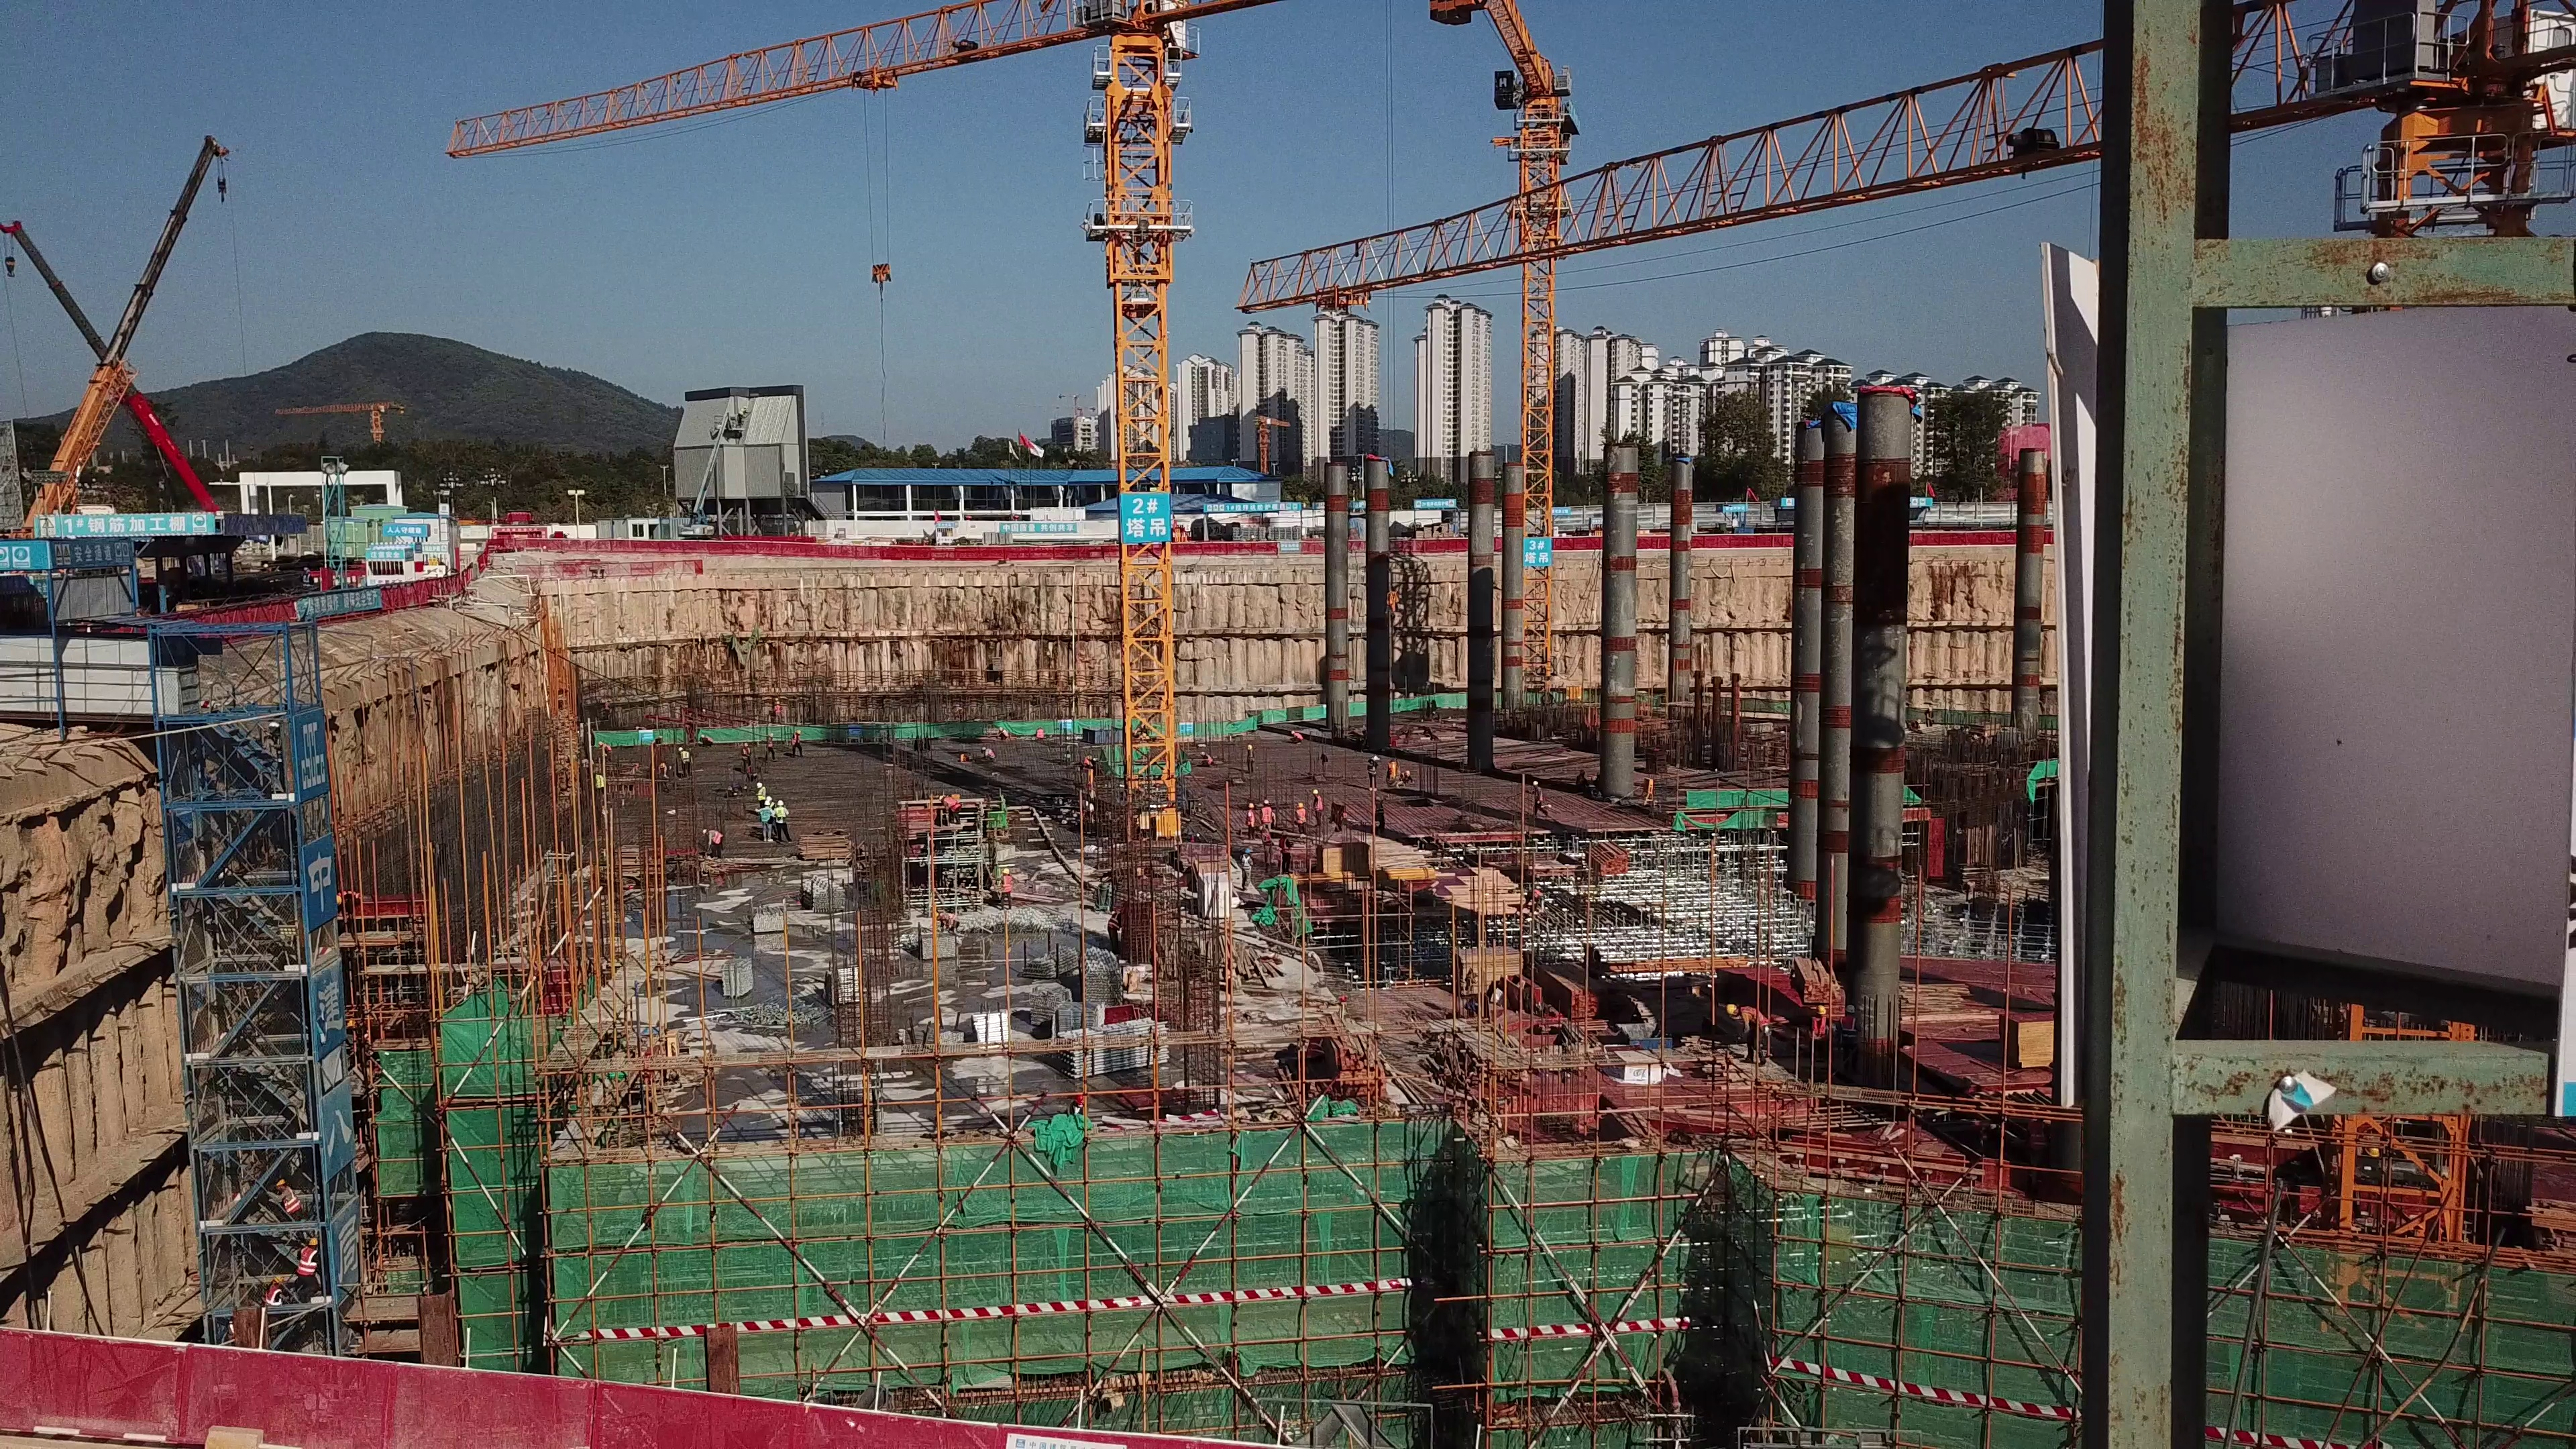board: (1995, 1006, 2056, 1070), (1448, 945, 1522, 996), (1317, 840, 1371, 875)
helmet: (755, 781, 784, 808), (1245, 798, 1269, 809), (1725, 1002, 1740, 1015), (1819, 1006, 1826, 1021), (1310, 786, 1318, 794), (1297, 801, 1303, 806)
hook: (865, 259, 903, 299)
person: (1725, 999, 1772, 1068), (753, 781, 796, 841), (1811, 996, 1828, 1056), (700, 824, 724, 859), (1528, 775, 1548, 818), (1289, 799, 1307, 837), (1262, 796, 1277, 833), (1311, 788, 1324, 830), (676, 743, 692, 774), (1244, 796, 1256, 832)
scaffold: (1046, 1015, 1174, 1079)
wood: (1580, 832, 1638, 878)
